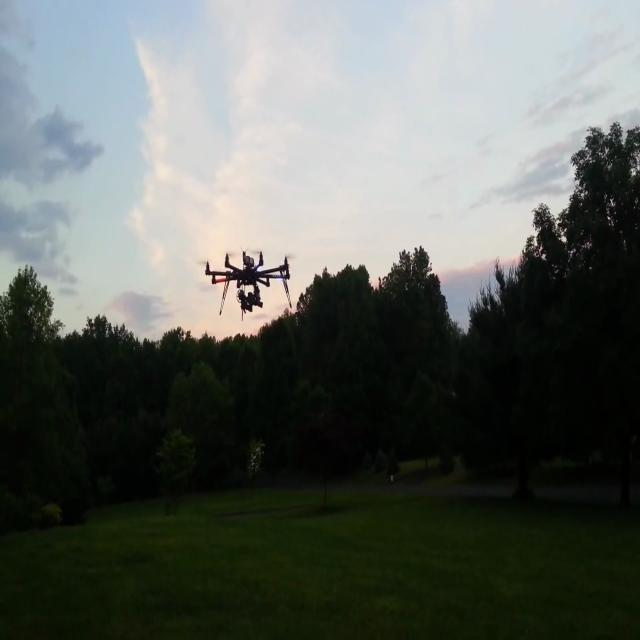drone: (200, 228, 299, 334)
